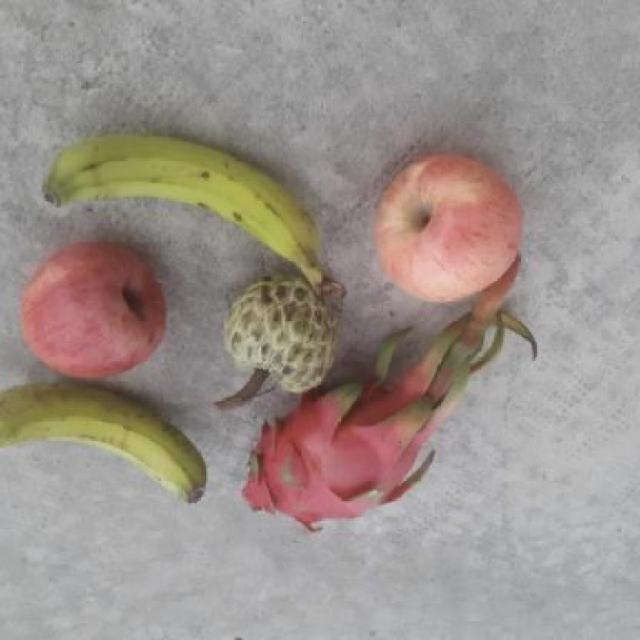apple: (369, 151, 525, 303), (13, 238, 169, 382)
banana: (38, 118, 338, 296), (0, 380, 209, 505)
dragon fruit: (238, 384, 447, 531)
sugar apple: (210, 275, 342, 396)
